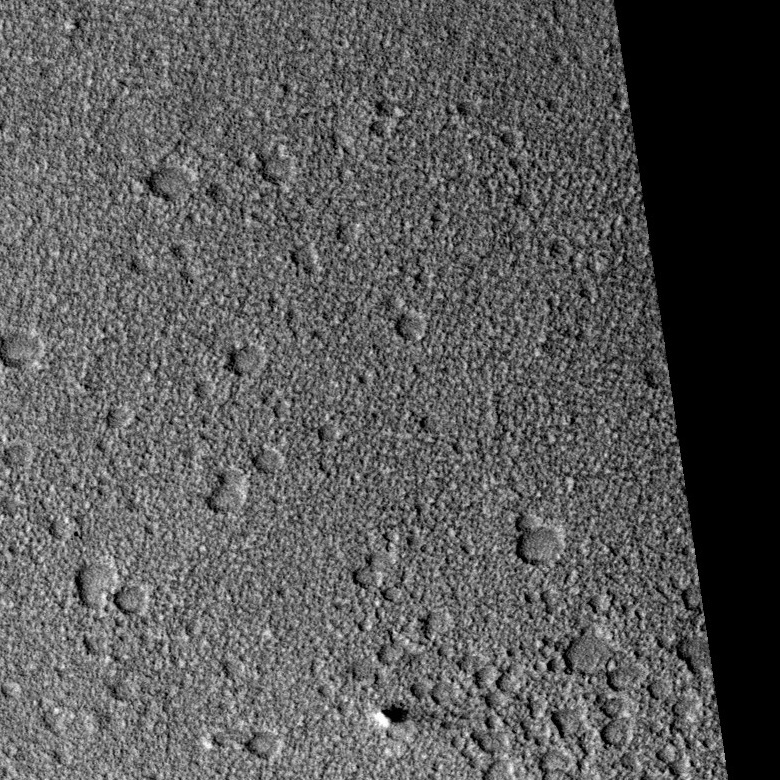dust_devil: (370, 702, 413, 729)
